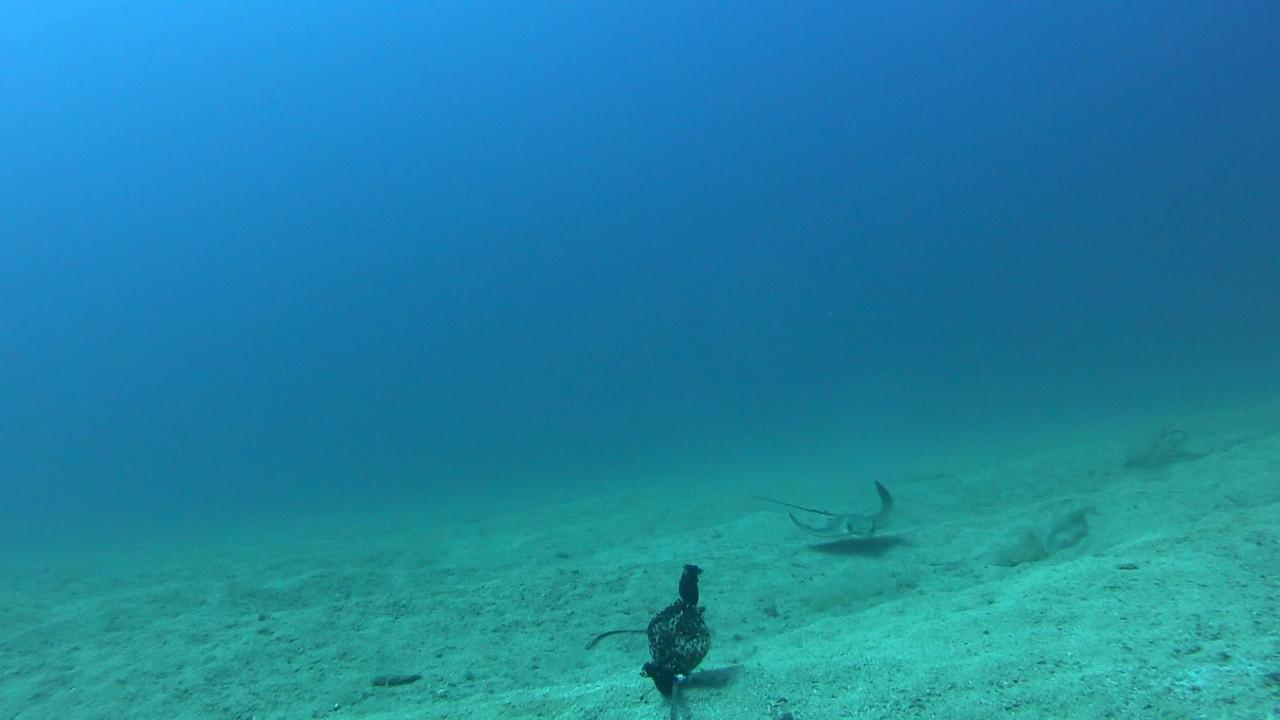myliobatis: (741, 459, 916, 559)
